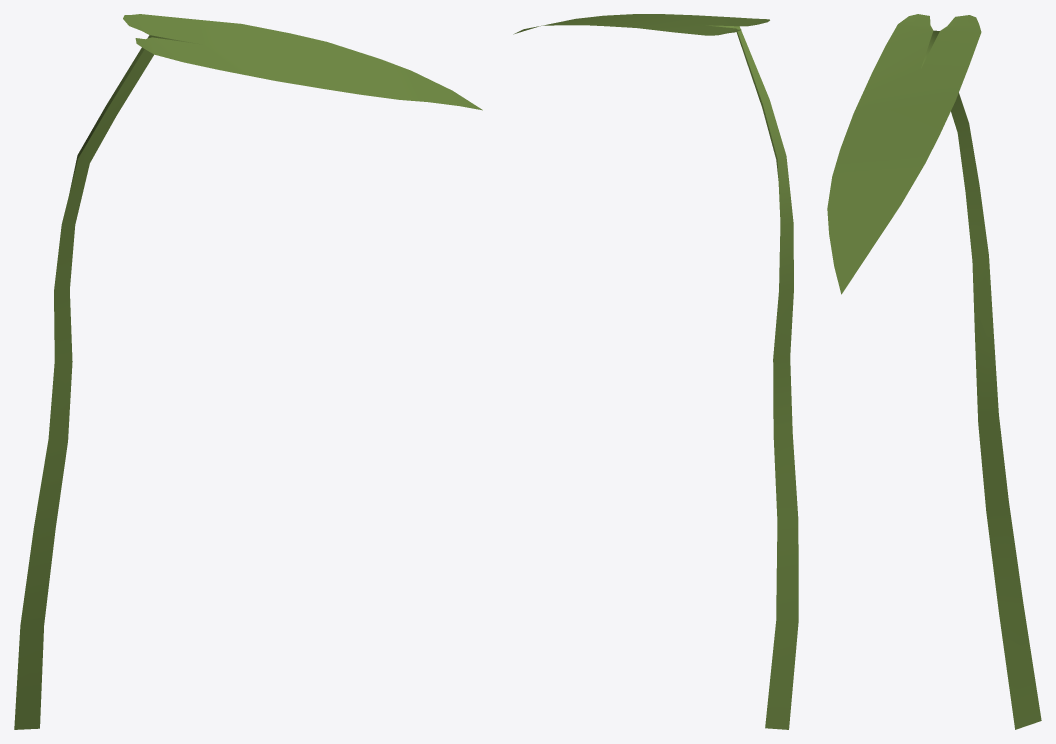
The model's file is plant_water_twig_solo_A.fbx.
3 views of the same model, side by side, from view 1: azimuth 30°, elevation 25°; view 2: azimuth 150°, elevation 25°; view 3: azimuth 270°, elevation 25° (orthographic). The views are drawn at different scales.
Parts seen in each view (by area): view 1: plant_water_twig_solo_A; view 2: plant_water_twig_solo_A; view 3: plant_water_twig_solo_A.
Part boxes in pixels (bbox=[...]): plant_water_twig_solo_A: bbox=[14, 14, 482, 729]; plant_water_twig_solo_A: bbox=[513, 14, 798, 729]; plant_water_twig_solo_A: bbox=[827, 14, 1041, 729].
Bounding box in the file's own units: 17.49 × 30.85 × 8.03.
